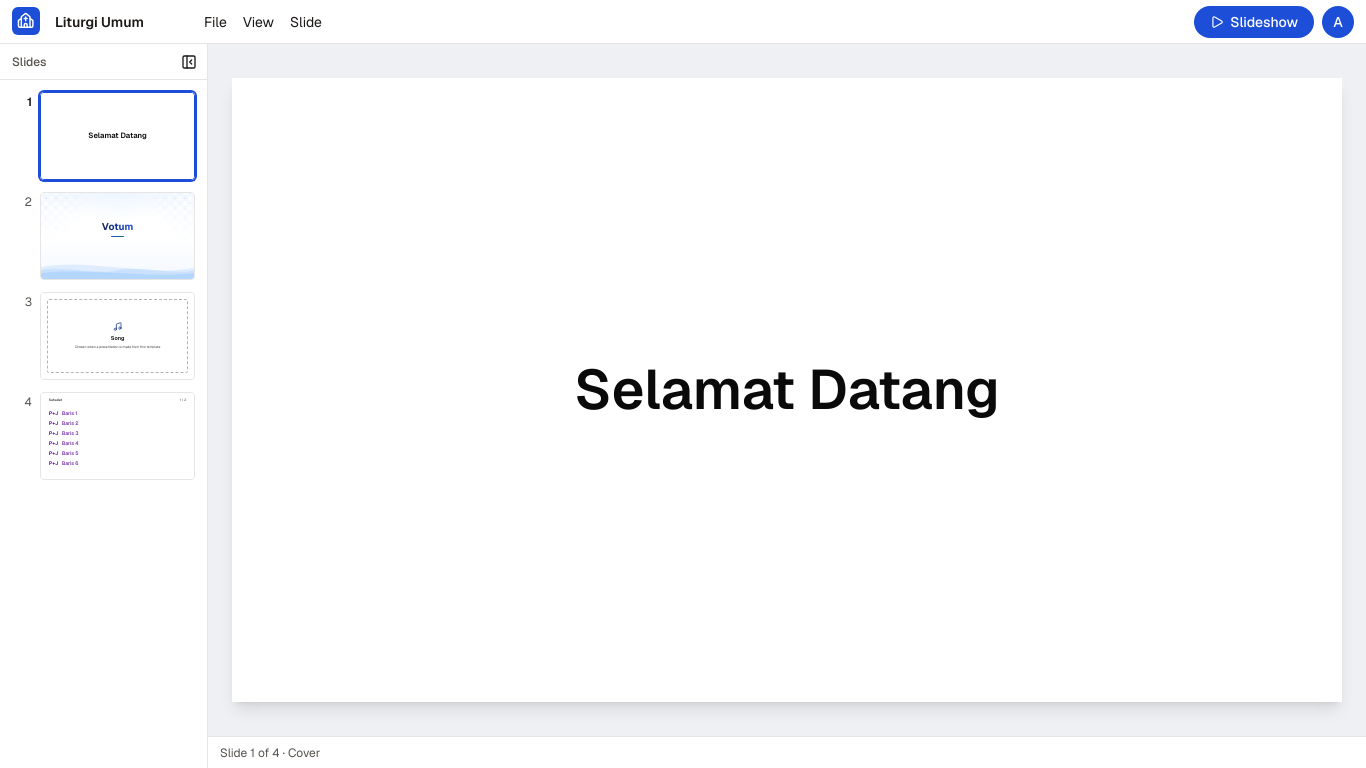
it: a reading that takes several screens can be paged through on the stage
The image size is (1366, 768).
Press End
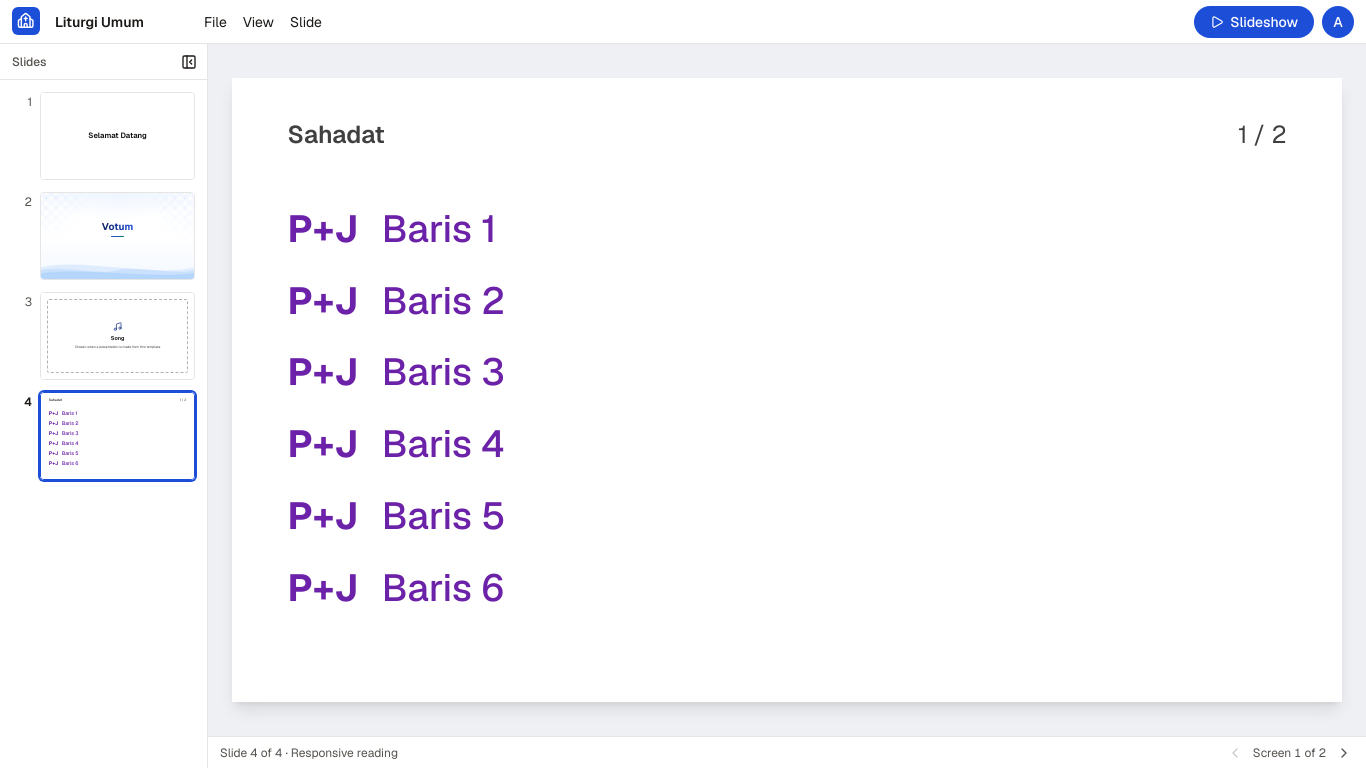
Result: the text "Screen 1 of 2" is shown at [1253, 744, 1326, 760]
Result: the 1st text "Baris 1" is shown at [382, 204, 496, 253]
Click the button named "Next screen" at [1344, 752], box [1330, 738, 1358, 766]
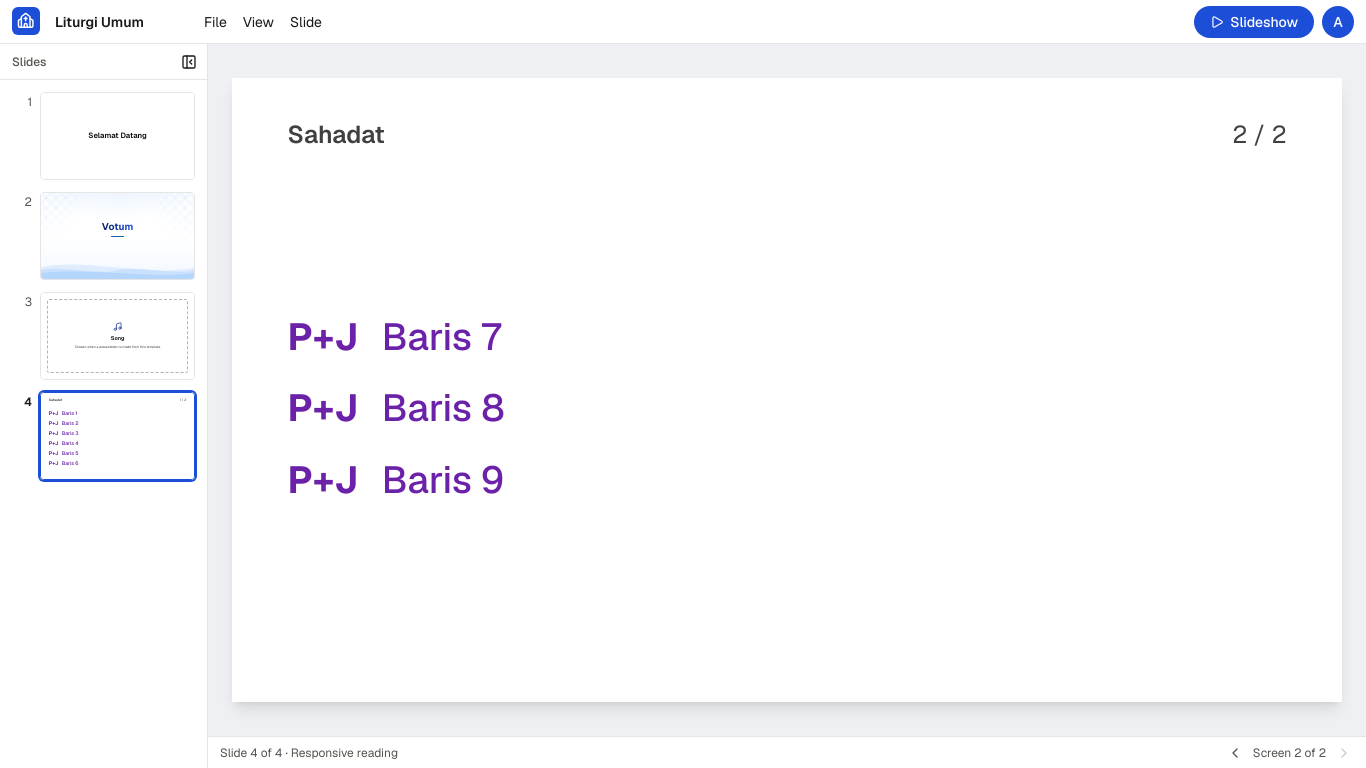
Result: the text "Screen 2 of 2" is shown at [1253, 744, 1326, 760]
Result: the text "Baris 9" is shown at [382, 455, 504, 504]
